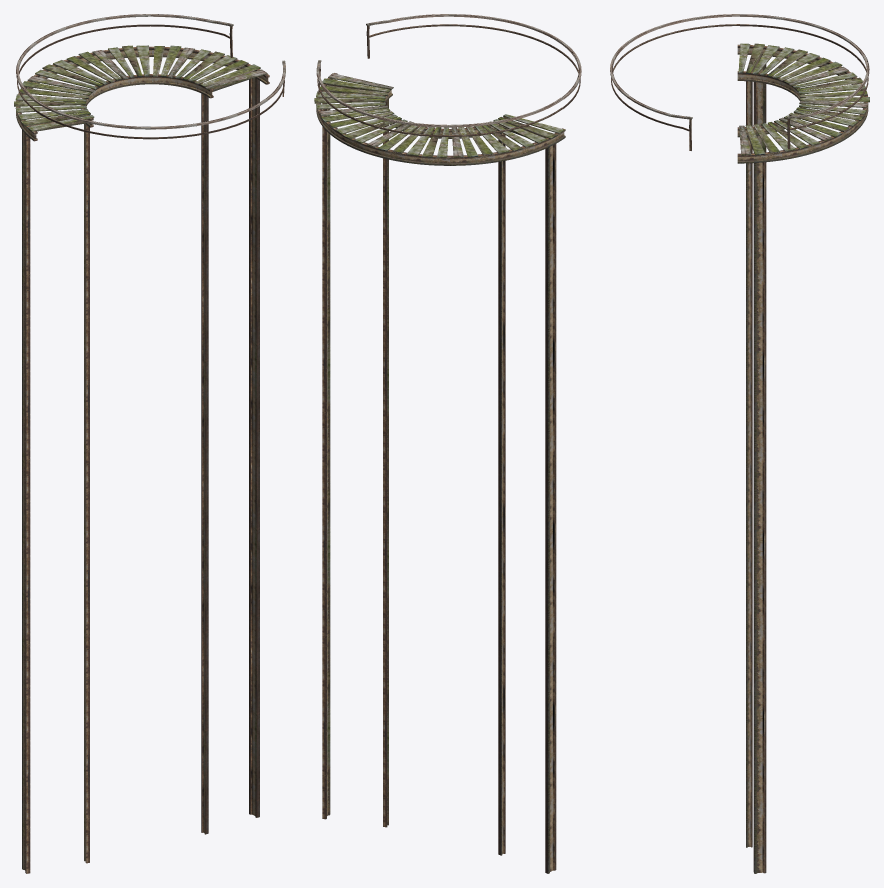
3 renders of one model, left to right at view 1: azimuth 30°, elevation 25°; view 2: azimuth 150°, elevation 25°; view 3: azimuth 270°, elevation 25°, orthographic. The views are drawn at different scales.
Parts seen in each view (by area): view 1: Ramp..004, Ramp..006; view 2: Ramp..004, Ramp..006; view 3: Ramp..004, Ramp..006.
Part boxes in pixels (x1,y1,x2,y2): Ramp..004: (14,45,269,873); Ramp..006: (16,14,285,139); Ramp..004: (314,73,565,873); Ramp..006: (316,14,581,136); Ramp..004: (737,43,869,873); Ramp..006: (610,14,869,150).
Bounding box in the file's own units: 771 × 2434 × 762.
